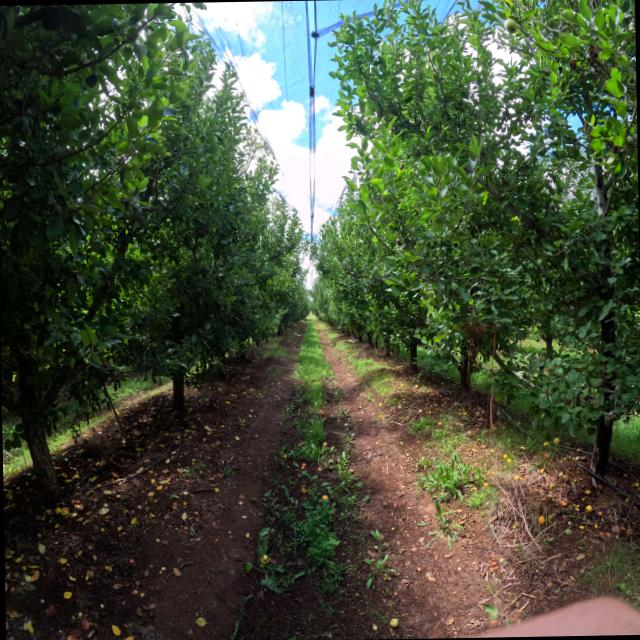-FireBlight-: (461, 324, 487, 355)
